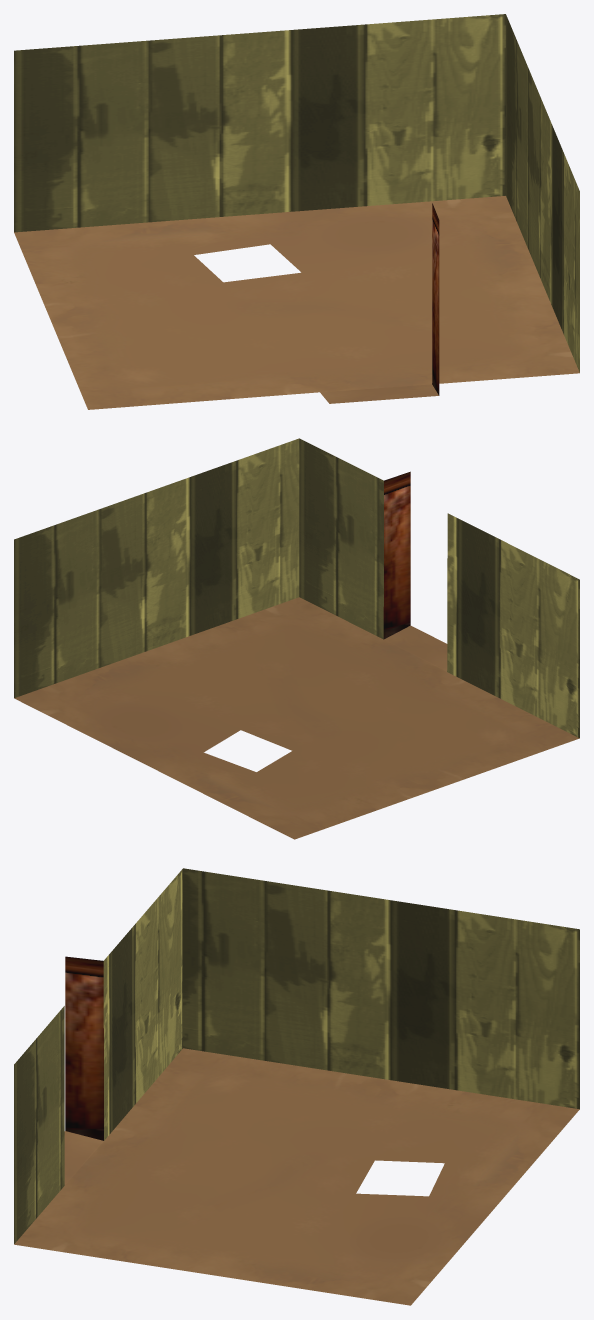
3 renders of one model, top to bottom at view 1: azimuth 30°, elevation 25°; view 2: azimuth 150°, elevation 25°; view 3: azimuth 270°, elevation 25°, orthographic. The views are drawn at different scales.
Parts seen in each view (by area): view 1: Box23; view 2: Box23; view 3: Box23.
Part boxes in pixels (x1=…): Box23: x1=14, y1=14, x2=579, y2=409; Box23: x1=14, y1=438, x2=579, y2=839; Box23: x1=14, y1=868, x2=579, y2=1305.
Bounding box in the file's own units: 1276 × 416 × 1186.
Materials: 3 (3 with a texture image).
